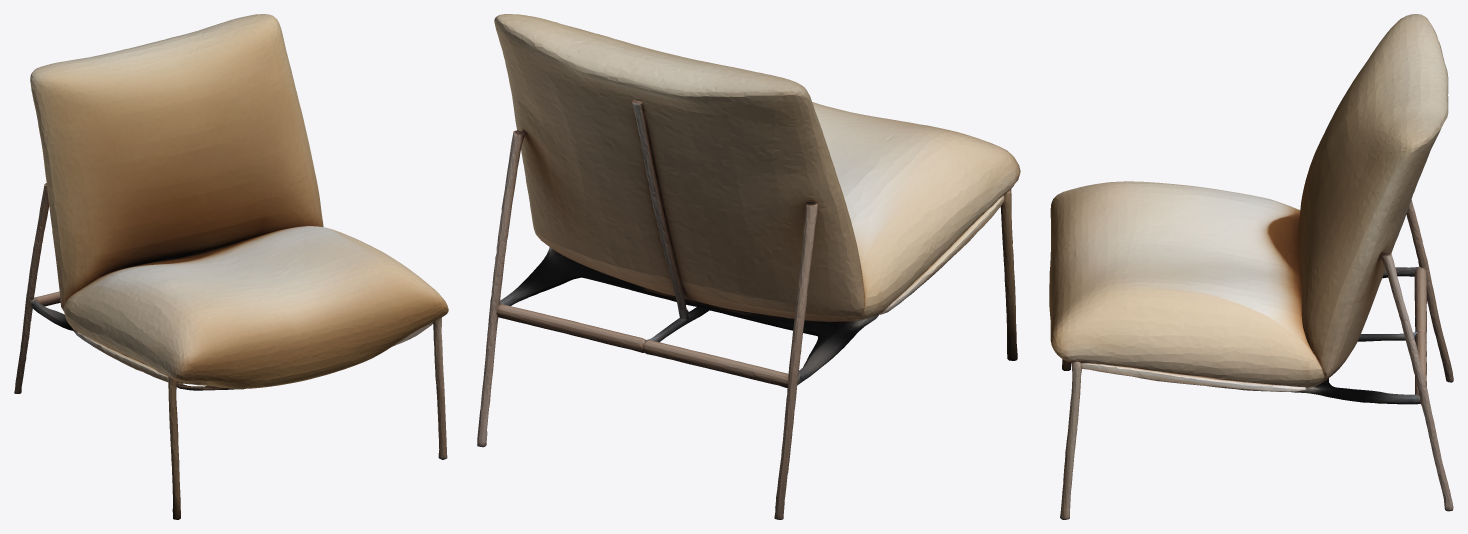
3 renders of one model, left to right at view 1: azimuth 30°, elevation 25°; view 2: azimuth 150°, elevation 25°; view 3: azimuth 270°, elevation 25°, orthographic. The views are drawn at different scales.
Visible parts, largest first — view 1: world; view 2: world; view 3: world.
Part boxes in pixels (left/top/right/bottom): world: left=14, top=14, right=448, bottom=519; world: left=477, top=14, right=1020, bottom=519; world: left=1049, top=14, right=1453, bottom=519.
Size of the model in its own units: 0.8659 by 1 by 0.9937.
Materials: 1 (1 with a texture image).
